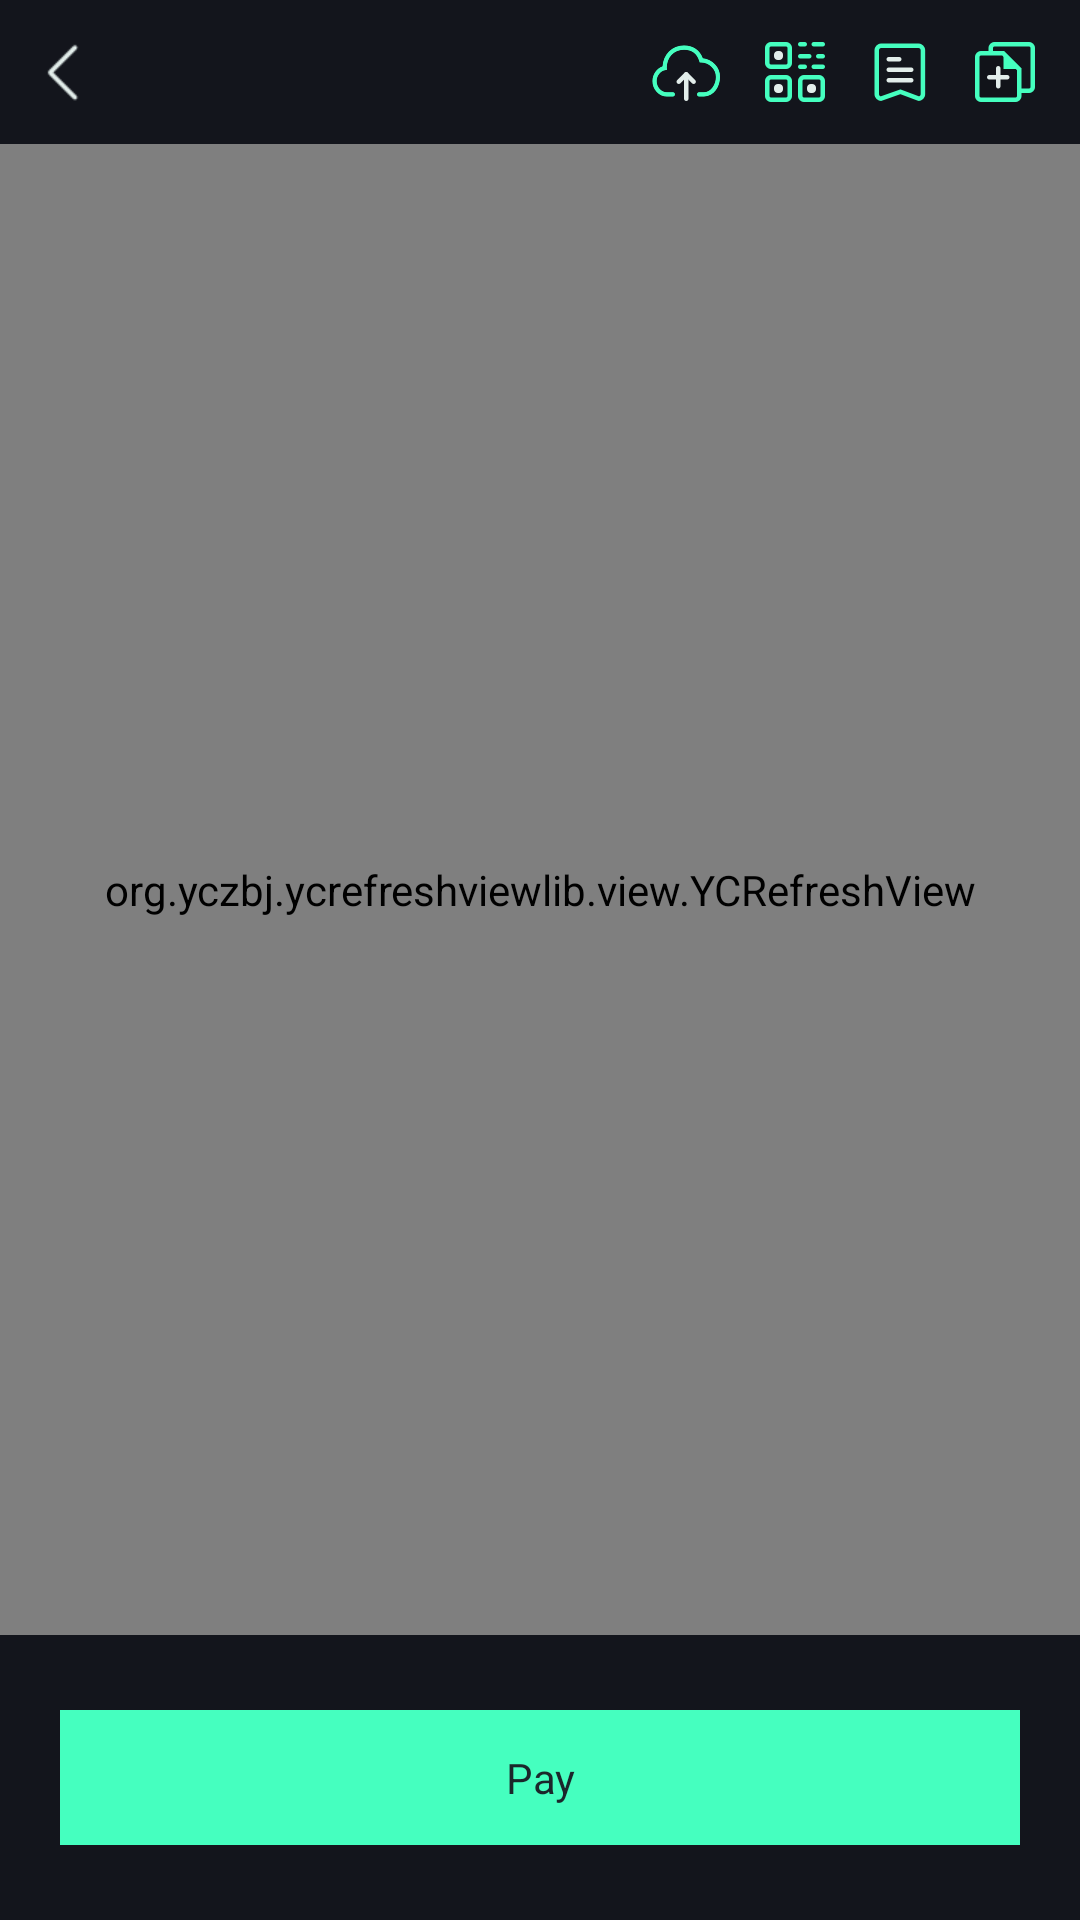

Where to tap for icons on this 1080px×1920px app screen, as [x,y]:
back: [62,73]
photon create: [1005,72]
photon list: [900,72]
photon qr: [795,72]
photon upload log: [686,73]
